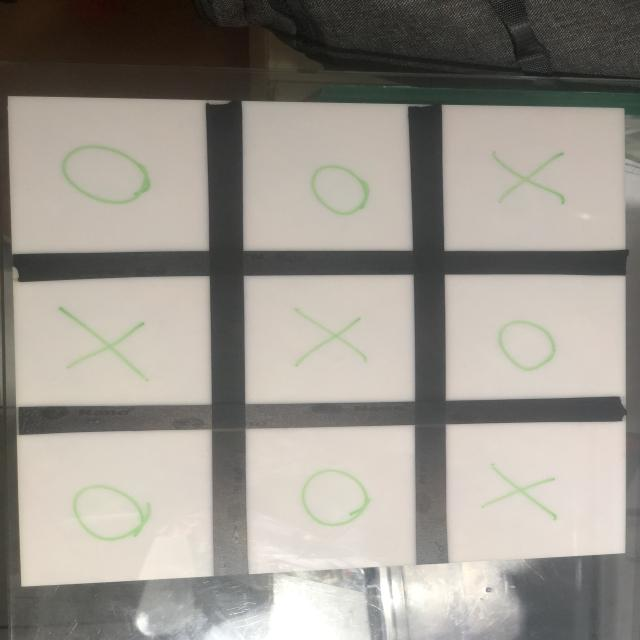o: (58, 140, 158, 210), (300, 465, 379, 533), (71, 482, 148, 541), (308, 163, 372, 222), (496, 315, 561, 372)
table: (10, 89, 629, 587)
x: (53, 303, 154, 383), (489, 147, 572, 210), (487, 463, 566, 529), (291, 305, 369, 371)
